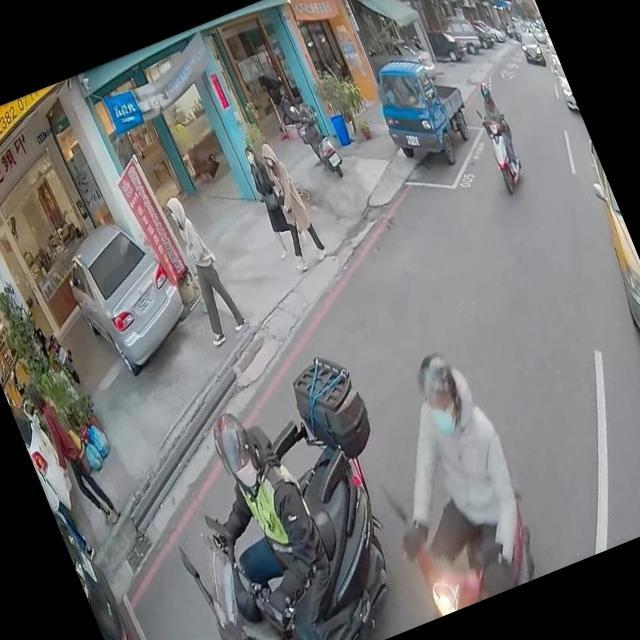person: (349, 341, 552, 614), (156, 390, 366, 640), (18, 357, 126, 540), (154, 185, 252, 348), (232, 134, 318, 266), (248, 134, 328, 268), (29, 446, 98, 568), (464, 74, 530, 188)
